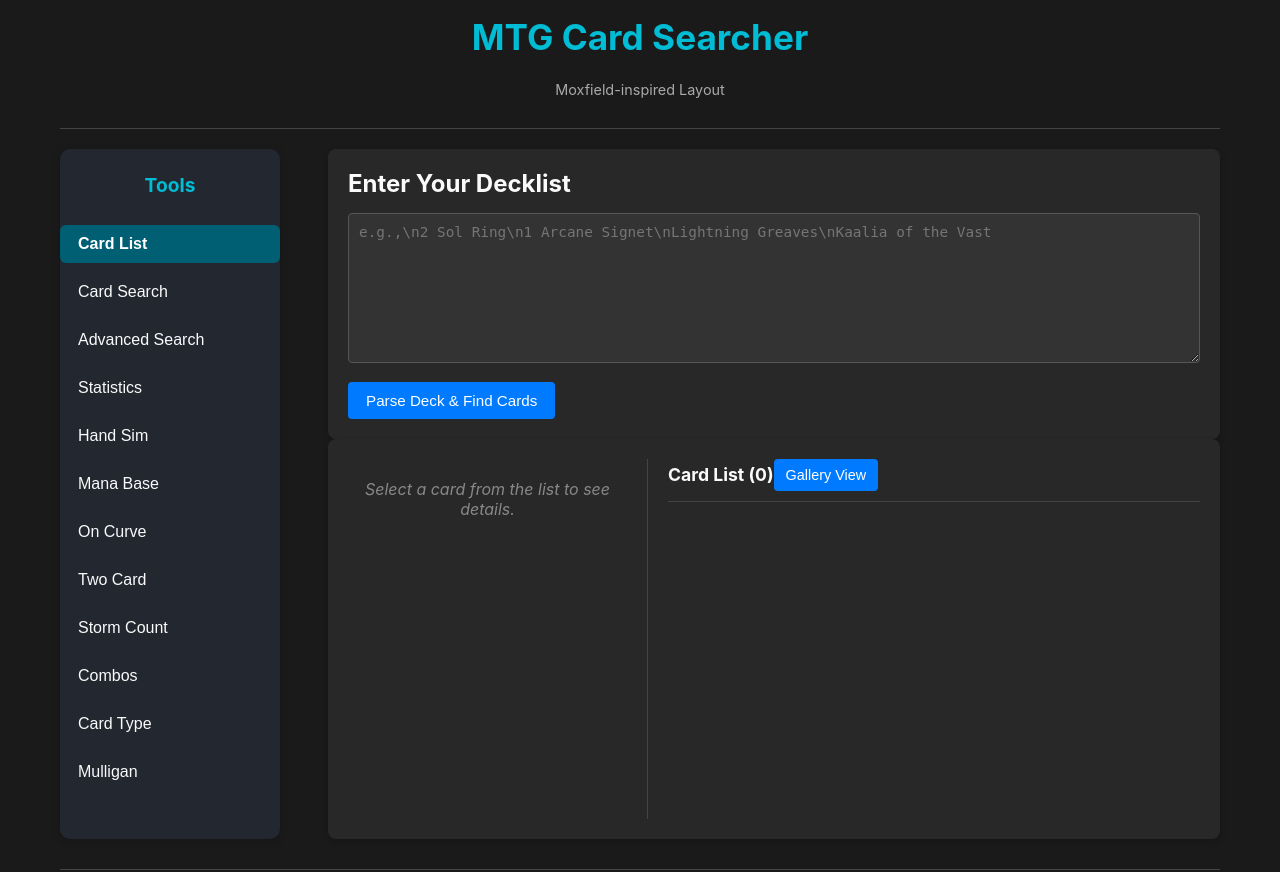
HomePage › should select a card and display its image and store links
The image size is (1280, 872).
In the text box with placeholder "e.g.,": [774, 288] box [348,212,1200,362], type "Sensei's Divining Top"
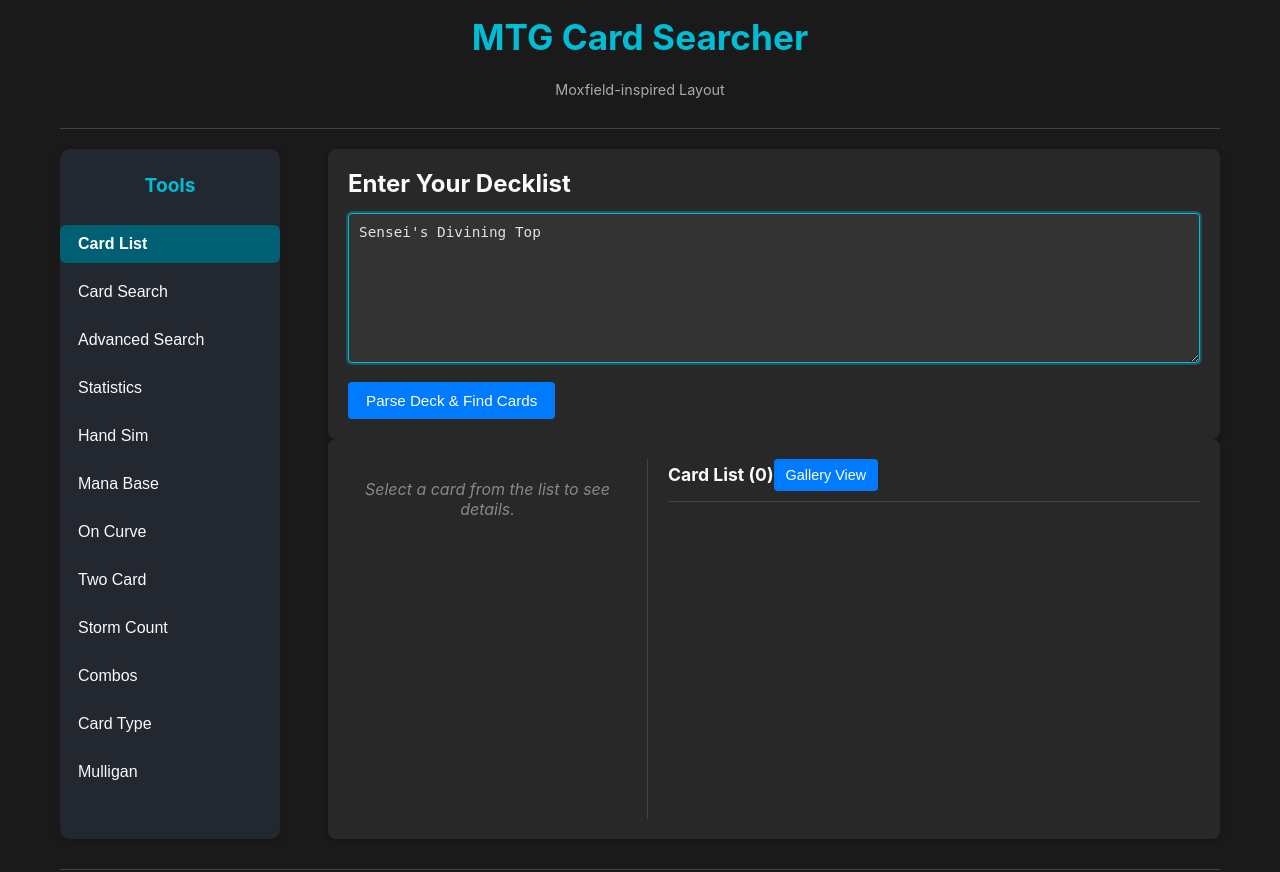
Click the button "Parse Deck & Find Cards": [452, 400] box [348,382,555,418]
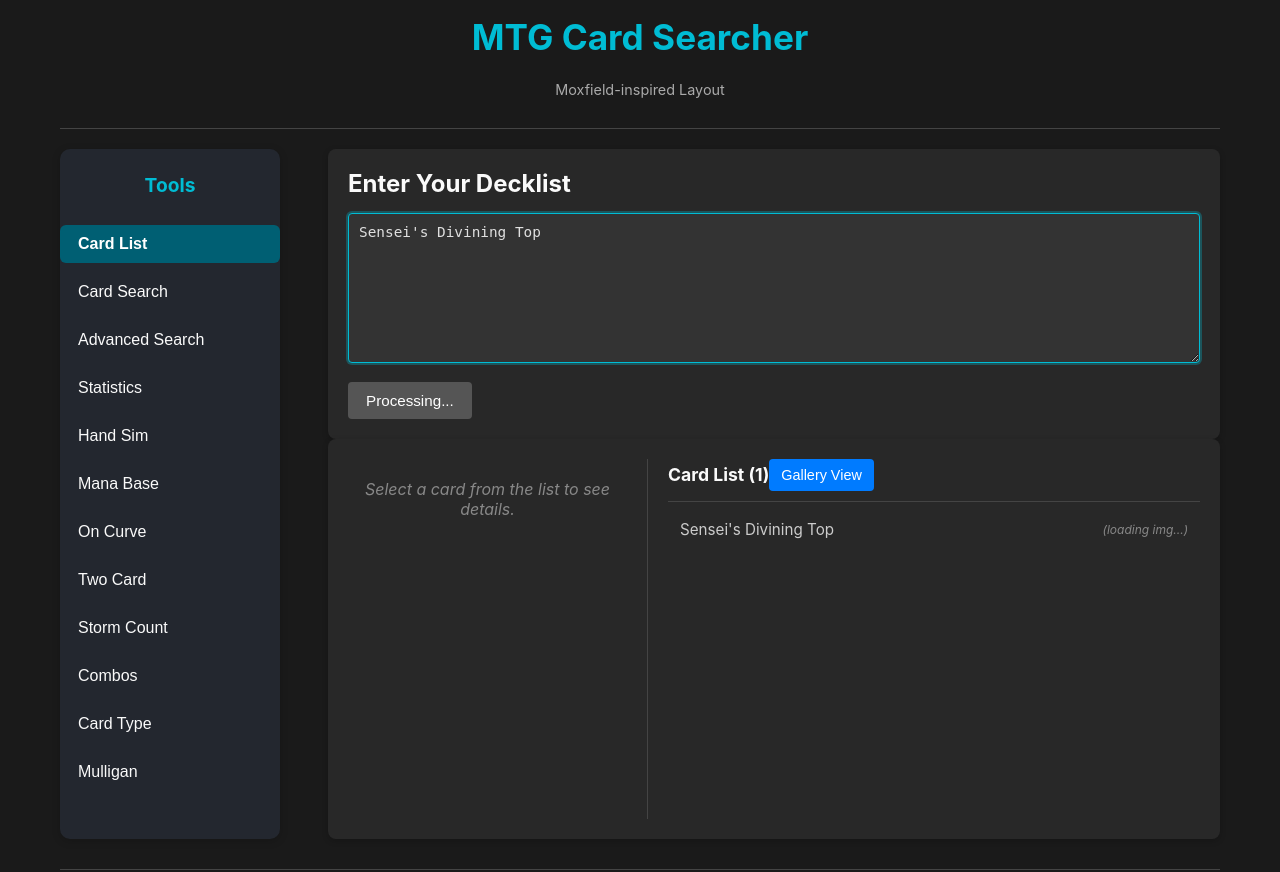
Now the list item "Sensei's Divining Top" is shown, box [680,520,834,538]
Click the list item "Sensei's Divining Top": [757, 529] box [680,520,1188,538]
(page scrolled)
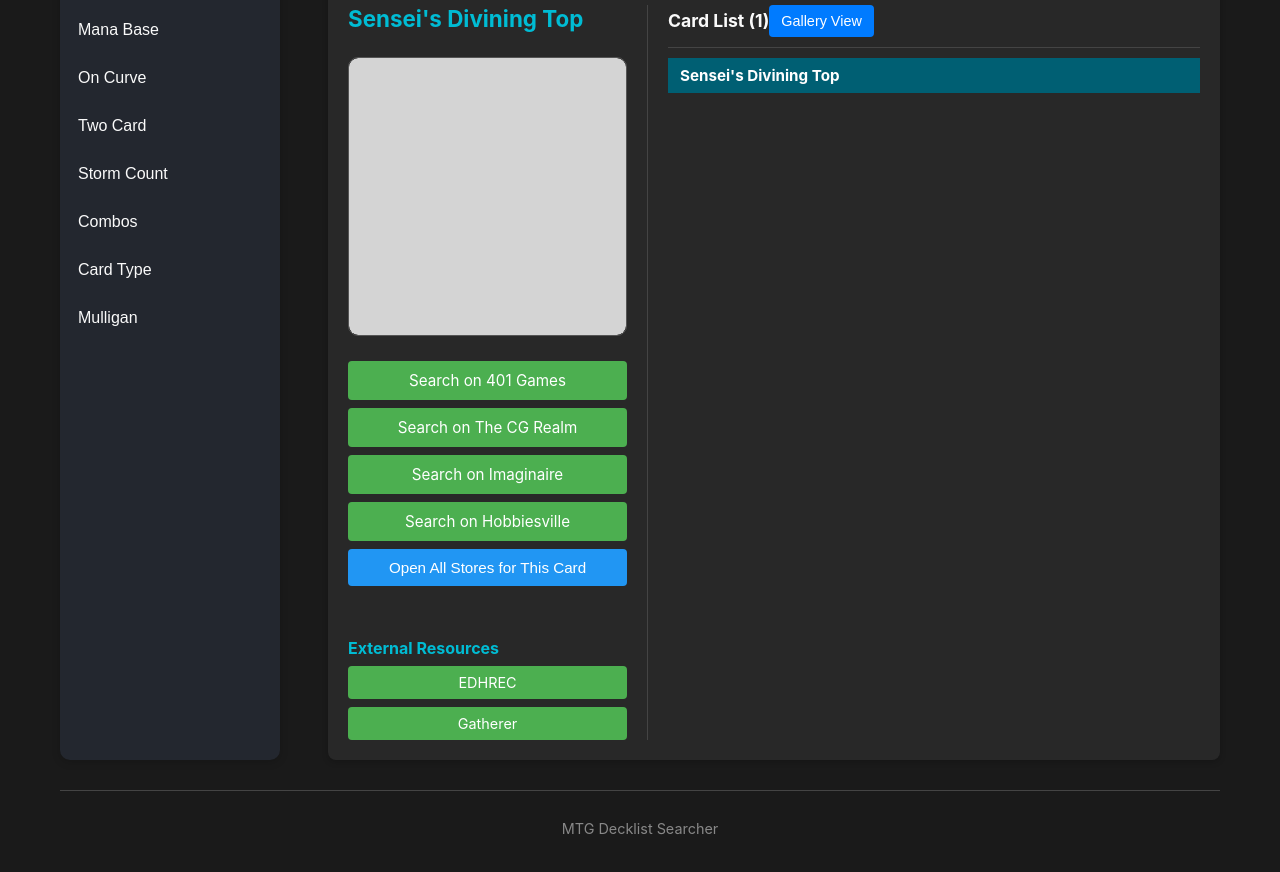
Now the heading "Sensei's Divining Top" is shown, box [348,4,583,32]
